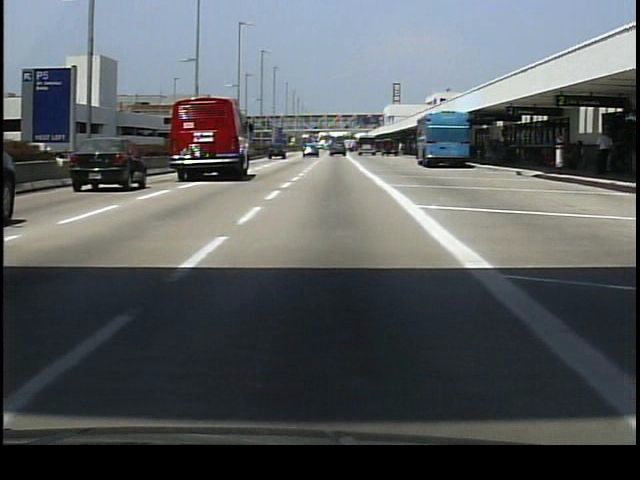person: (596, 130, 615, 176)
